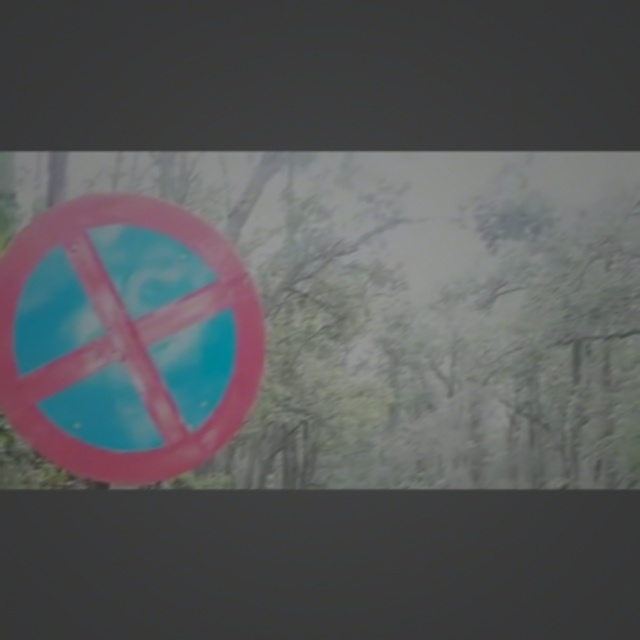No_Stopping_or_Standing: (13, 211, 254, 454)
